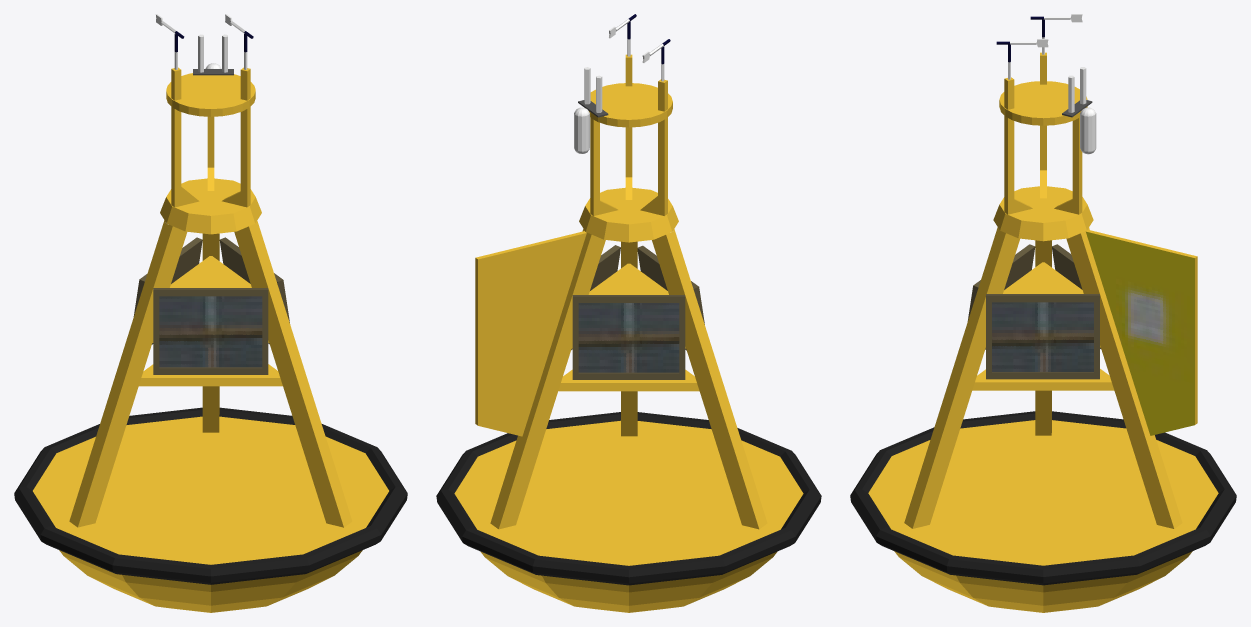
Rendered from station_44018.dae.
3 renders of one model, left to right at view 1: azimuth 30°, elevation 25°; view 2: azimuth 150°, elevation 25°; view 3: azimuth 270°, elevation 25°, orthographic. The views are drawn at different scales.
Visible parts, largest first — view 1: Component (×10), Component2 (×3), Component3 (×4); view 2: Component (×11), Component2 (×3), Component3 (×4), Component4; view 3: Component (×12), Component2 (×3), Component3 (×4), Component4.
Part boxes in pixels (<box>): Component (×10): <box>14,67,407,612</box>; Component2 (×3): <box>69,220,352,527</box>; Component3 (×4): <box>133,237,289,374</box>; Component (×11): <box>436,54,821,612</box>; Component2 (×3): <box>490,229,767,529</box>; Component3 (×4): <box>571,245,704,379</box>; Component4: <box>574,107,589,153</box>; Component (×12): <box>850,52,1236,612</box>; Component2 (×3): <box>904,227,1182,528</box>; Component3 (×4): <box>967,244,1100,379</box>; Component4: <box>1080,107,1096,154</box>.
Size of the model in its own units: 173 by 173 by 278.
8 materials, 2 textured.
